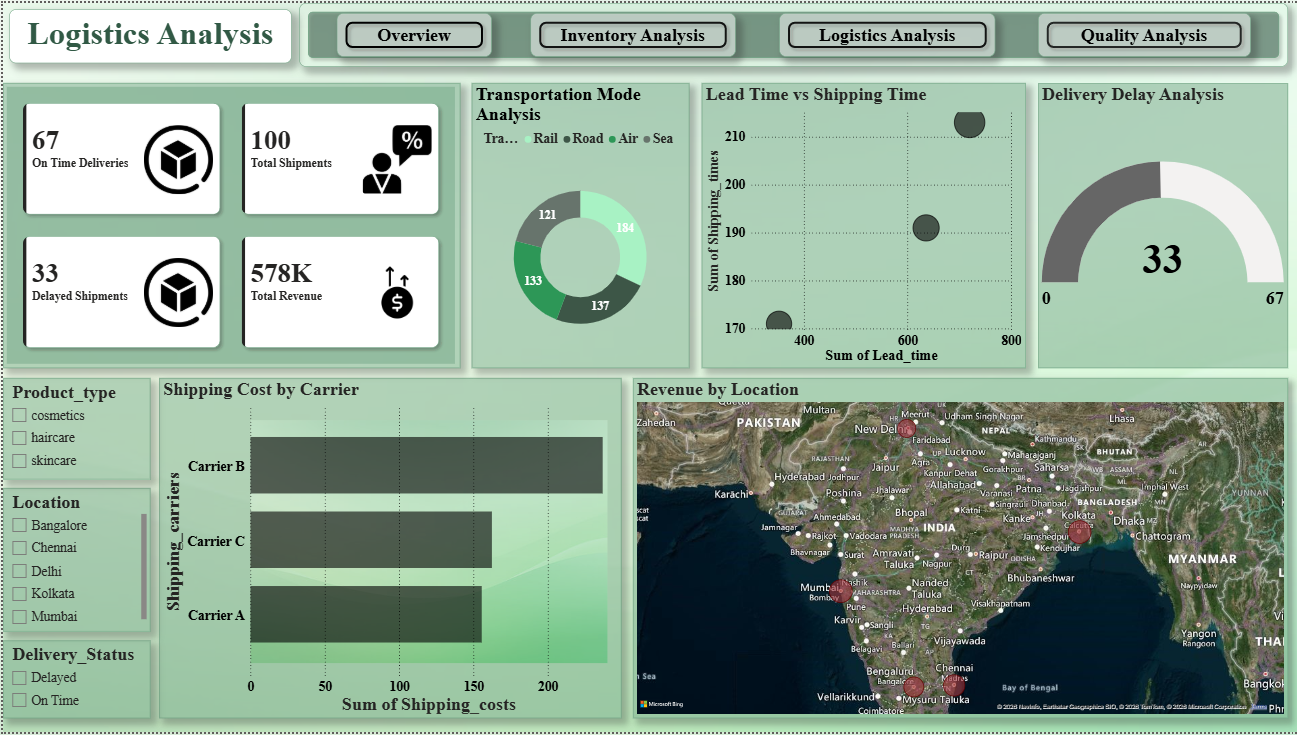

This screenshot's page, from the dashboard's own definition file:
{"tool":"powerbi","page":{"name":"Logistics Analysis","canvas":[1920,1080],"ordinal":2},"visuals":[{"type":"textbox","box":[9.3,9.3,418.5,79.6],"z":0},{"type":"shape","box":[438.9,0,1464.8,94.4],"z":1000},{"type":"actionButton","box":[494.4,14.8,229.6,64.8],"z":2000},{"type":"actionButton","box":[781.5,14.8,303.7,64.8],"z":3000},{"type":"actionButton","box":[1150,14.8,320.4,64.8],"z":4000},{"type":"actionButton","box":[1533.3,14.8,314.8,64.8],"z":5000},{"type":"barChart","title":"Shipping Cost by Carrier","fields":{"Y":["Sum(supply_chain_data.Shipping_costs)"],"Category":["supply_chain_data.Shipping_carriers"]},"box":[231.5,555.6,685.2,503.7],"z":6000},{"type":"donutChart","title":"Transportation Mode Analysis","fields":{"Category":["supply_chain_data.Transportation_modes"],"Y":["Sum(supply_chain_data.Shipping_times)"]},"box":[694.4,118.5,322.2,422.2],"z":7000},{"type":"gauge","title":"Delivery Delay Analysis","fields":{"Y":["supply_chain_data.Delayed Shipments"],"TargetValue":["supply_chain_data.Total Shipments"],"MaxValue":["supply_chain_data.On Time Deliveries"]},"box":[1533.3,118.5,370.4,422.2],"z":8000},{"type":"scatterChart","title":"Lead Time vs Shipping Time","fields":{"X":["Sum(supply_chain_data.Lead_time)"],"Y":["Sum(supply_chain_data.Shipping_times)"],"Size":["Sum(supply_chain_data.Revenue_generated)"],"Category":["supply_chain_data.Product_type"]},"box":[1035.2,118.5,479.6,422.2],"z":9000},{"type":"map","title":"Revenue by Location","fields":{"Size":["Sum(supply_chain_data.Revenue_generated)"],"Category":["supply_chain_data.Location"]},"box":[933.3,555.6,970.4,503.7],"z":10000},{"type":"cardVisual","fields":{"Data":["supply_chain_data.On Time Deliveries","supply_chain_data.Total Shipments","supply_chain_data.Delayed Shipments","supply_chain_data.Total Revenue"]},"box":[0,118.5,677.8,422.2],"z":11000},{"type":"slicer","fields":{"Values":["supply_chain_data.Location"]},"box":[0,718.5,218.5,213],"z":12000},{"type":"slicer","fields":{"Values":["supply_chain_data.Product_type"]},"box":[0,555.6,218.5,150],"z":13000},{"type":"slicer","fields":{"Values":["supply_chain_data.Delivery_Status"]},"box":[0,944.4,218.5,114.8],"z":14000}]}

Visuals, with their boxes in screenshot pixels (x1, y1, x2, y2), scaled from the page's 1920x1080 canvas onto the 1297x735 screenshot:
textbox: locate(6, 6, 289, 61)
shape: locate(296, 0, 1286, 64)
actionButton: locate(334, 10, 489, 54)
actionButton: locate(528, 10, 733, 54)
actionButton: locate(777, 10, 993, 54)
actionButton: locate(1036, 10, 1248, 54)
"Shipping Cost by Carrier" barChart: locate(156, 378, 619, 721)
"Transportation Mode Analysis" donutChart: locate(469, 81, 687, 368)
"Delivery Delay Analysis" gauge: locate(1036, 81, 1286, 368)
"Lead Time vs Shipping Time" scatterChart: locate(699, 81, 1023, 368)
"Revenue by Location" map: locate(630, 378, 1286, 721)
cardVisual - supply_chain_data.On Time Deliveries x supply_chain_data.Total Shipments: locate(0, 81, 458, 368)
slicer - supply_chain_data.Location: locate(0, 489, 148, 634)
slicer - supply_chain_data.Product_type: locate(0, 378, 148, 480)
slicer - supply_chain_data.Delivery_Status: locate(0, 643, 148, 721)
